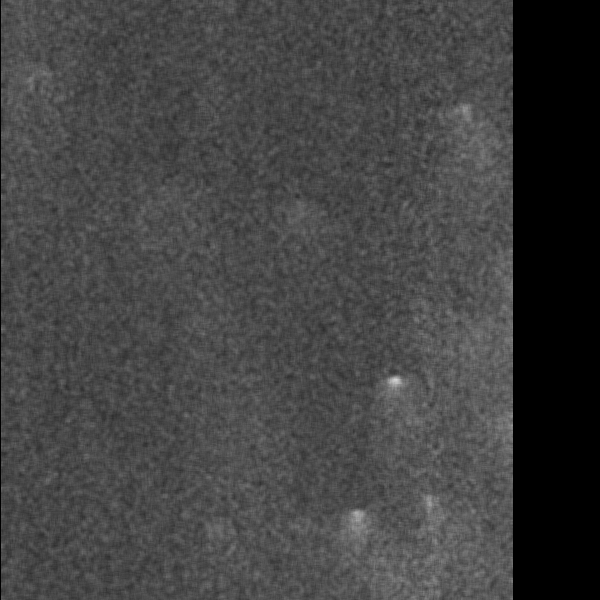spark: (340, 403, 376, 476)
